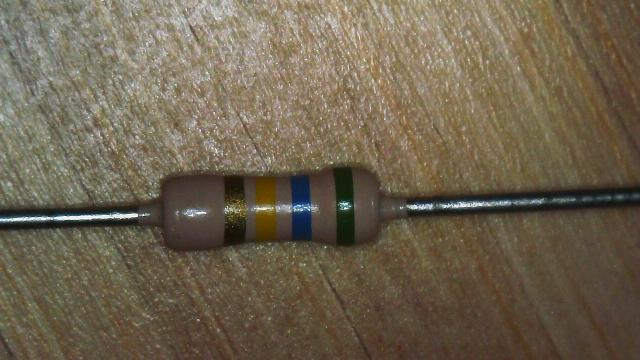blue: (291, 175, 310, 238)
gold: (224, 176, 246, 245)
green: (333, 167, 355, 246)
resistor: (134, 132, 424, 279)
yellow: (254, 176, 276, 242)
